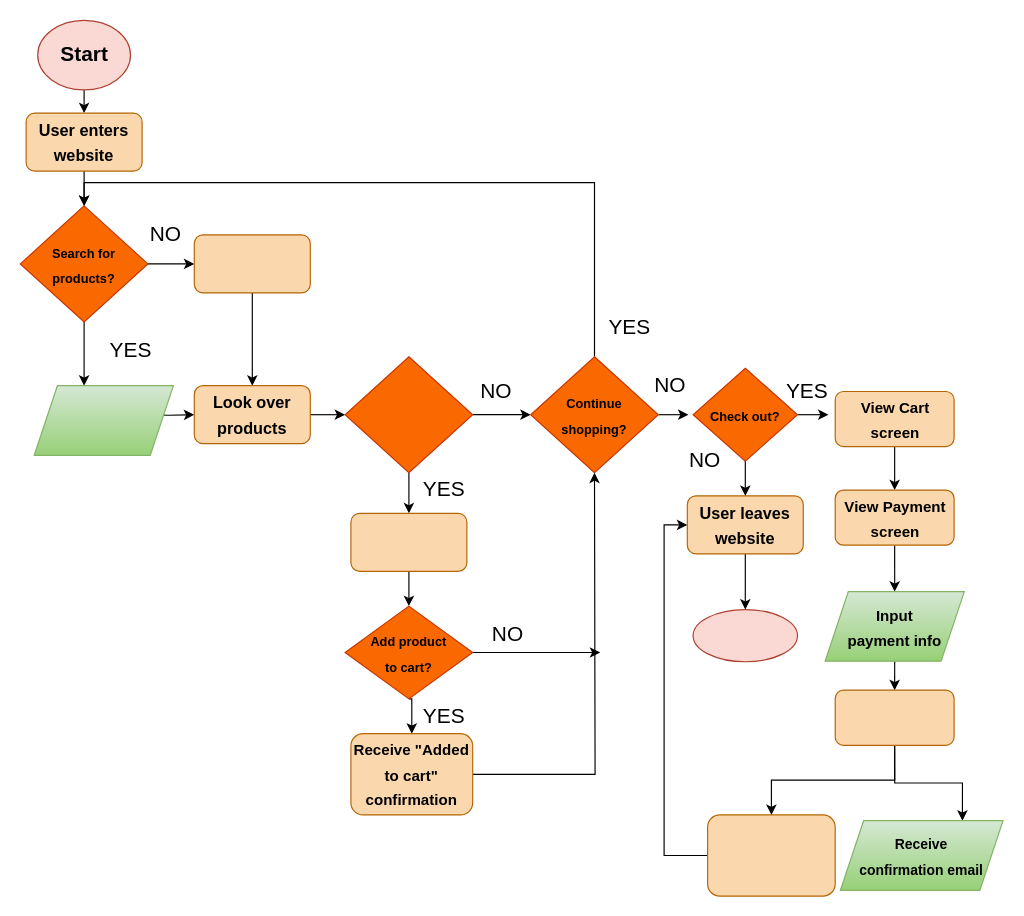
The diagram is 1024 pixels wide and 916 high, and some of its shapes have lost their labels. Each missing label, with the centre of its shape:
END: point 745,635
Explore on home page: point 251,263
Order Confirmation screen: point 770,855
Provide input to search: point 103,420
That product's website opens: point 408,541
User completes payment: point 894,717
View specific products?: point 408,414
